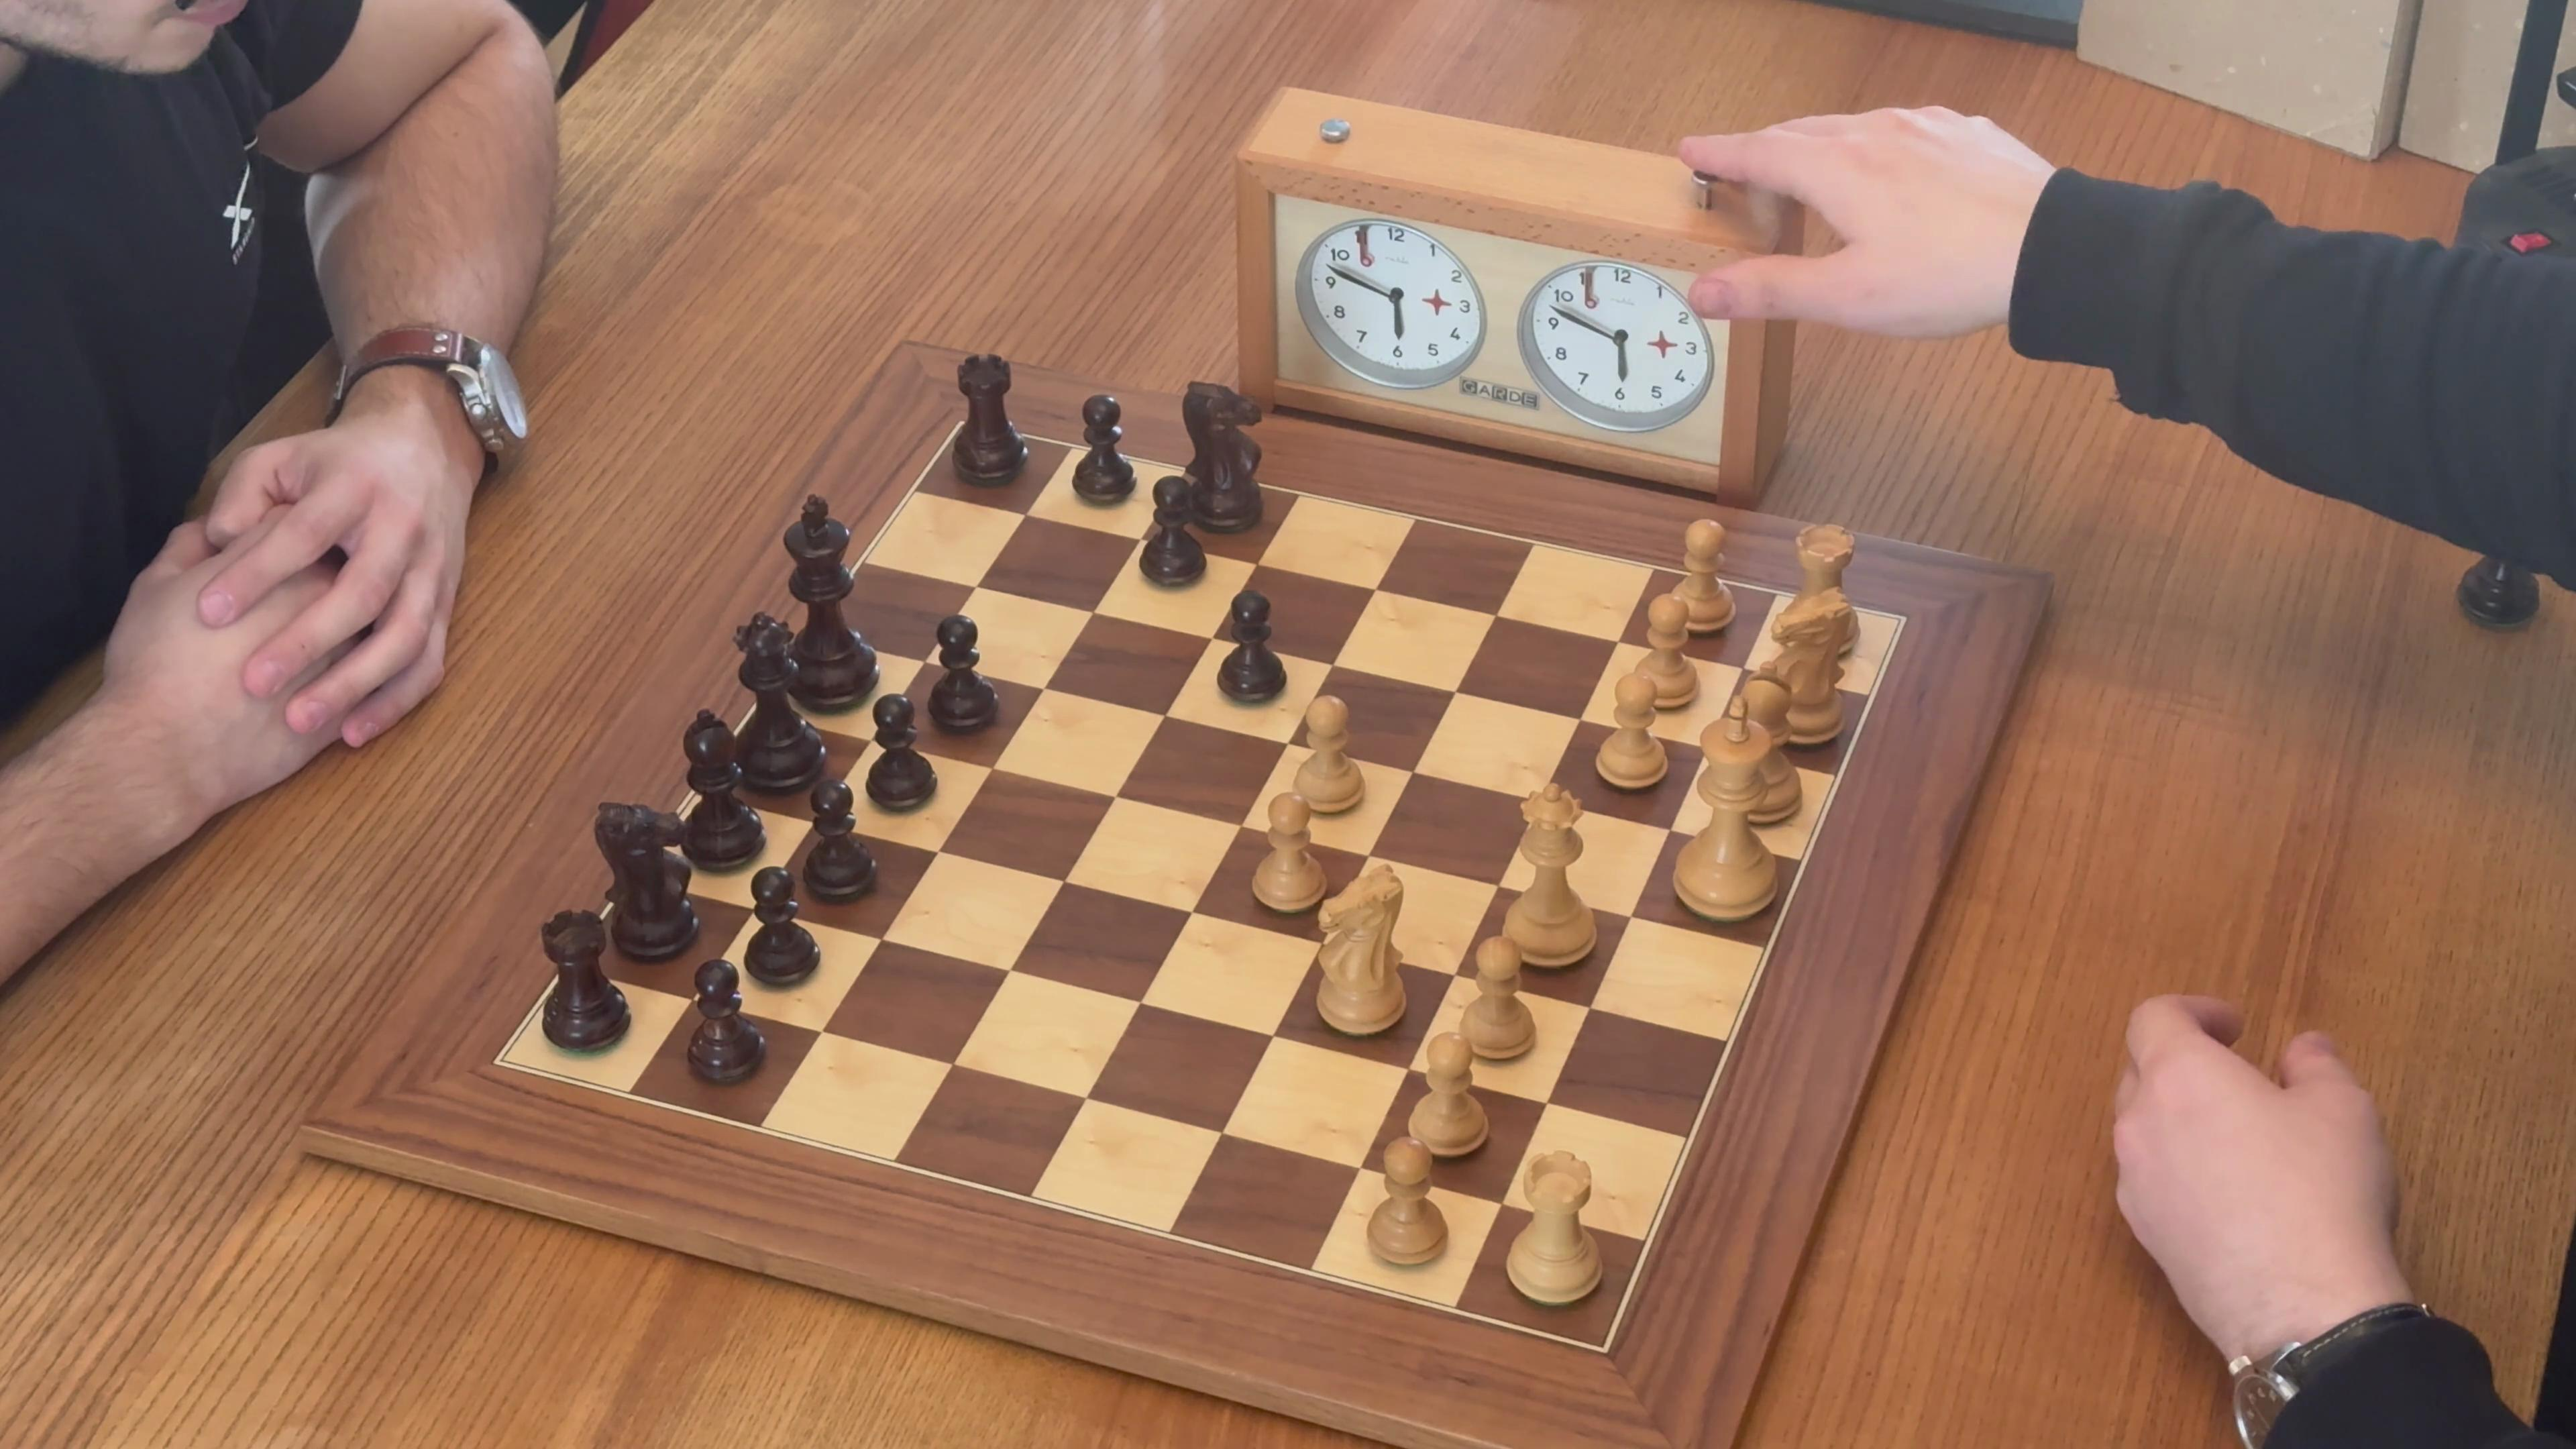right: (1315, 90, 1727, 219)
